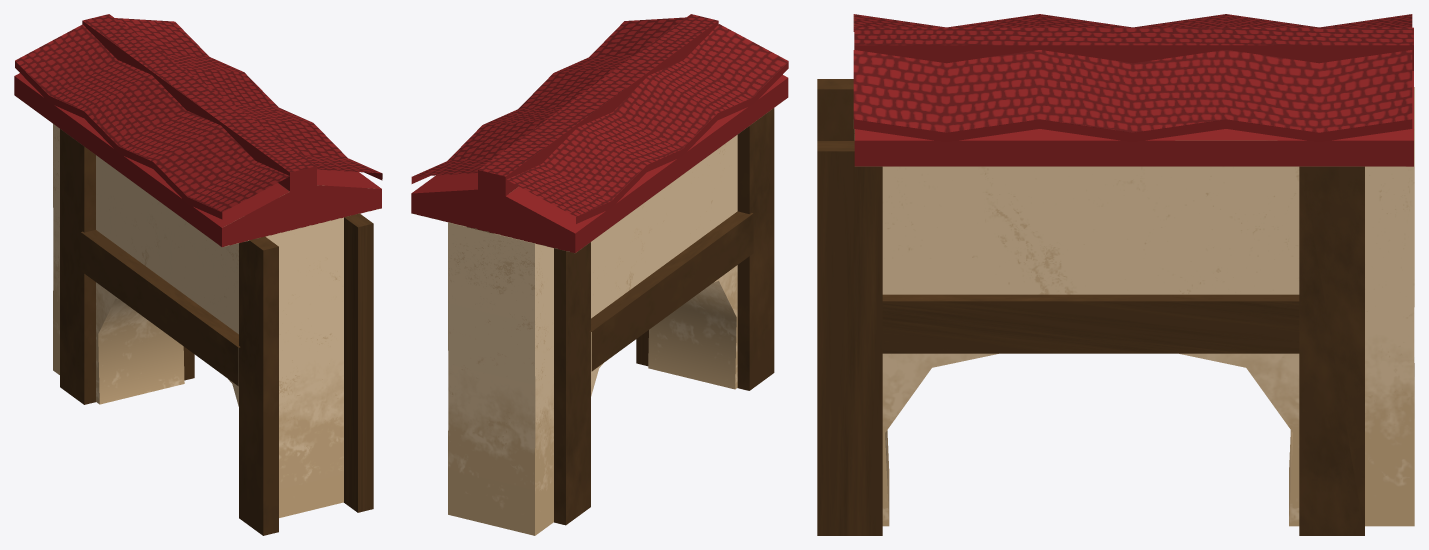
File: GateWall.fbx
3 renders of one model, left to right at view 1: azimuth 30°, elevation 25°; view 2: azimuth 150°, elevation 25°; view 3: azimuth 270°, elevation 25°, orthographic. The views are drawn at different scales.
Visible parts, largest first — view 1: GateWall, GateDec001, GateDec; view 2: GateWall, GateDec001; view 3: GateWall, GateDec, GateDec001.
Part boxes in pixels (x1,y1,x2,y2): GateWall: (14, 14, 382, 517); GateDec001: (60, 129, 278, 535); GateDec: (183, 213, 373, 512); GateWall: (411, 14, 788, 535); GateDec001: (554, 108, 774, 525); GateWall: (853, 14, 1414, 526); GateDec: (817, 141, 1364, 535); GateDec001: (817, 79, 854, 140).
Size of the model in its own units: 17.26 by 35.36 by 41.38.
Materials: 2 (2 with a texture image).
